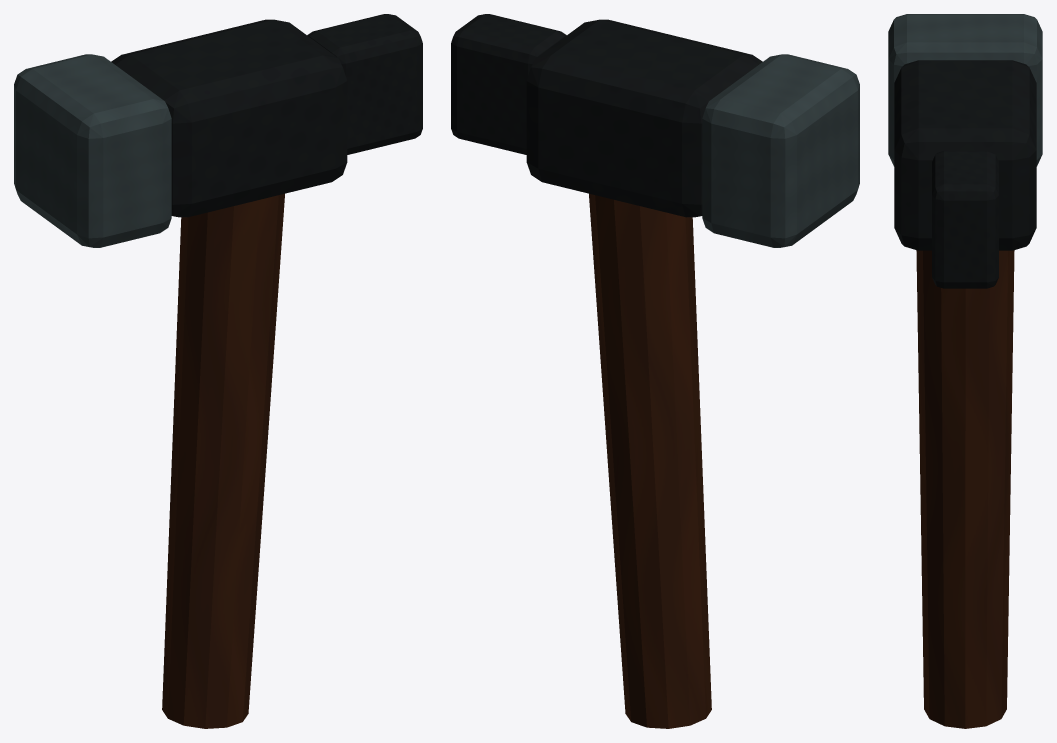
File: blacksmith_hammer.glb
The picture shows the model from 3 angles, left to right: view 1: azimuth 30°, elevation 25°; view 2: azimuth 150°, elevation 25°; view 3: azimuth 270°, elevation 25°; orthographic projection. The views are drawn at different scales.
Visible parts, largest first — view 1: AshHaft, ForgedHead, SquareFace, CrossPeen; view 2: AshHaft, ForgedHead, SquareFace, CrossPeen; view 3: AshHaft, ForgedHead, CrossPeen, SquareFace.
Part boxes in pixels (x1,y1,x2,y2): AshHaft: (162,193,284,728); ForgedHead: (111,19,347,217); SquareFace: (14,54,171,247); CrossPeen: (307,14,422,154); AshHaft: (589,193,711,728); ForgedHead: (526,19,762,217); SquareFace: (702,54,859,247); CrossPeen: (451,14,566,154); AshHaft: (916,250,1014,728); ForgedHead: (894,60,1036,250); CrossPeen: (932,151,998,288); SquareFace: (888,14,1042,166).
Size of the model in its own units: 0.204 by 0.3522 by 0.078.
3 materials, 3 textured.
